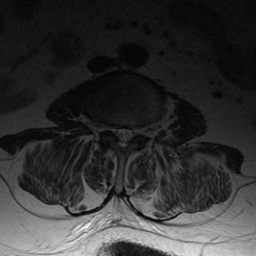CCS_normal: (120, 120, 126, 155)
LFS_stenosis: (136, 121, 143, 145)
LLS_stenosis: (127, 120, 135, 146)
RFS_stenosis: (104, 119, 112, 145)
RLS_stenosis: (112, 120, 120, 146)
